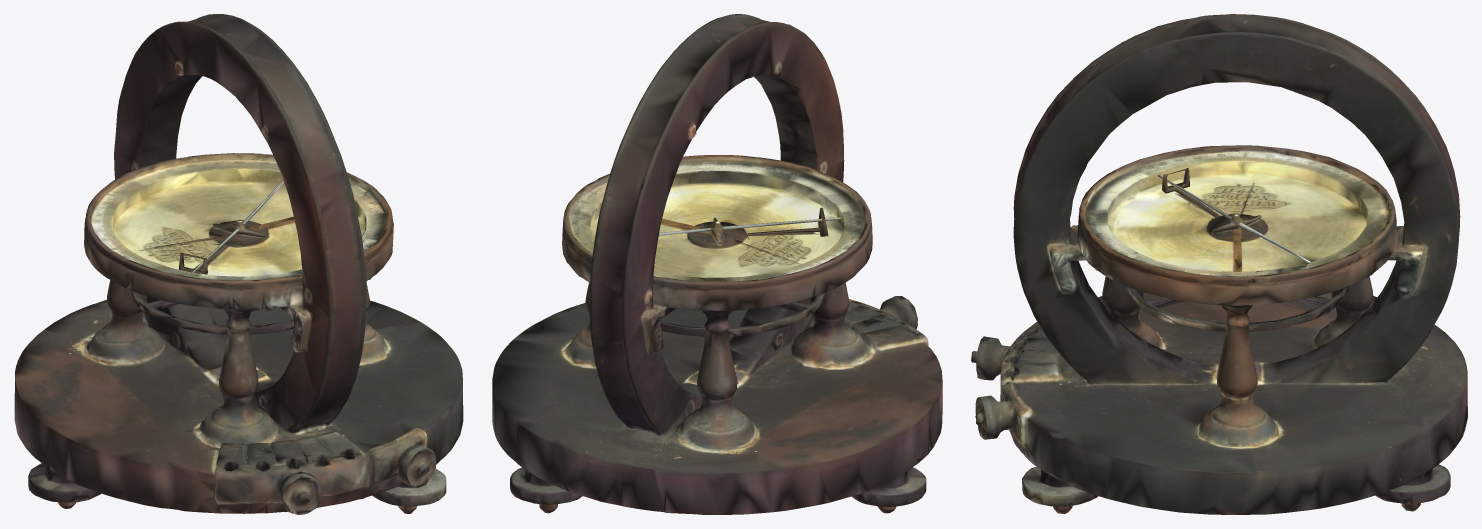
Rendered from galvanometer.glb.
The picture shows the model from 3 angles, left to right: view 1: azimuth 30°, elevation 25°; view 2: azimuth 150°, elevation 25°; view 3: azimuth 270°, elevation 25°; orthographic projection. The views are drawn at different scales.
Bounding box in the file's own units: 5.41 × 5.68 × 5.69.
1 material, 1 textured.
